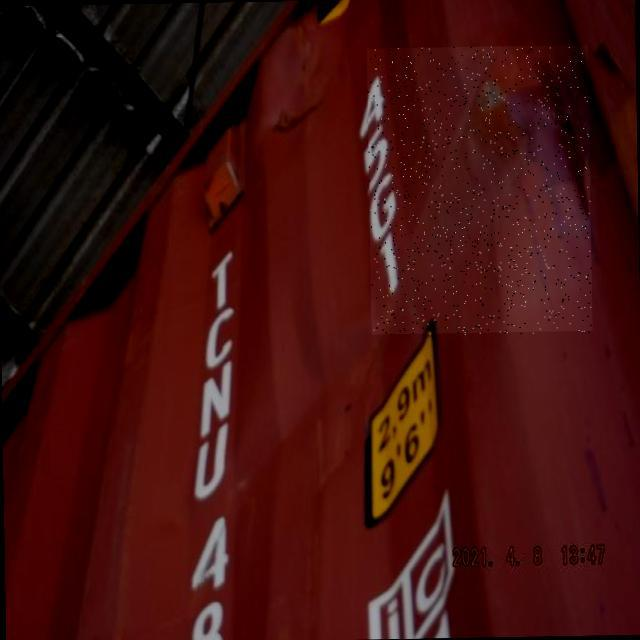Dent: (367, 45, 593, 337)
